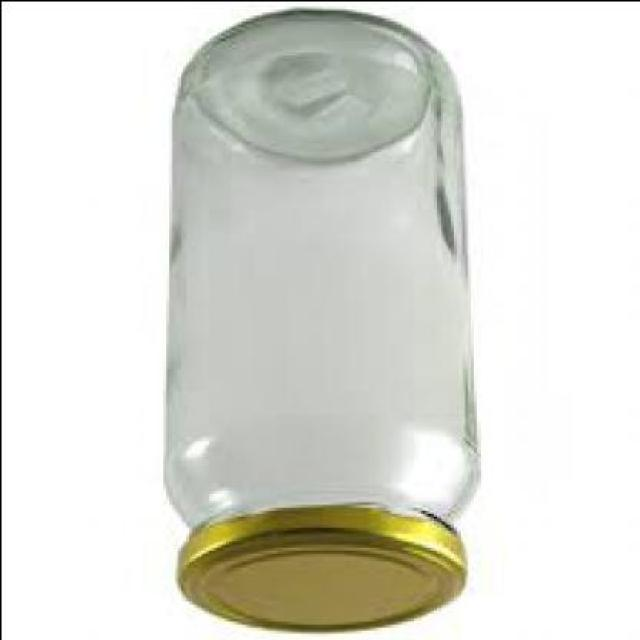GLASS: (162, 11, 478, 524)
METAL: (177, 508, 466, 634)
